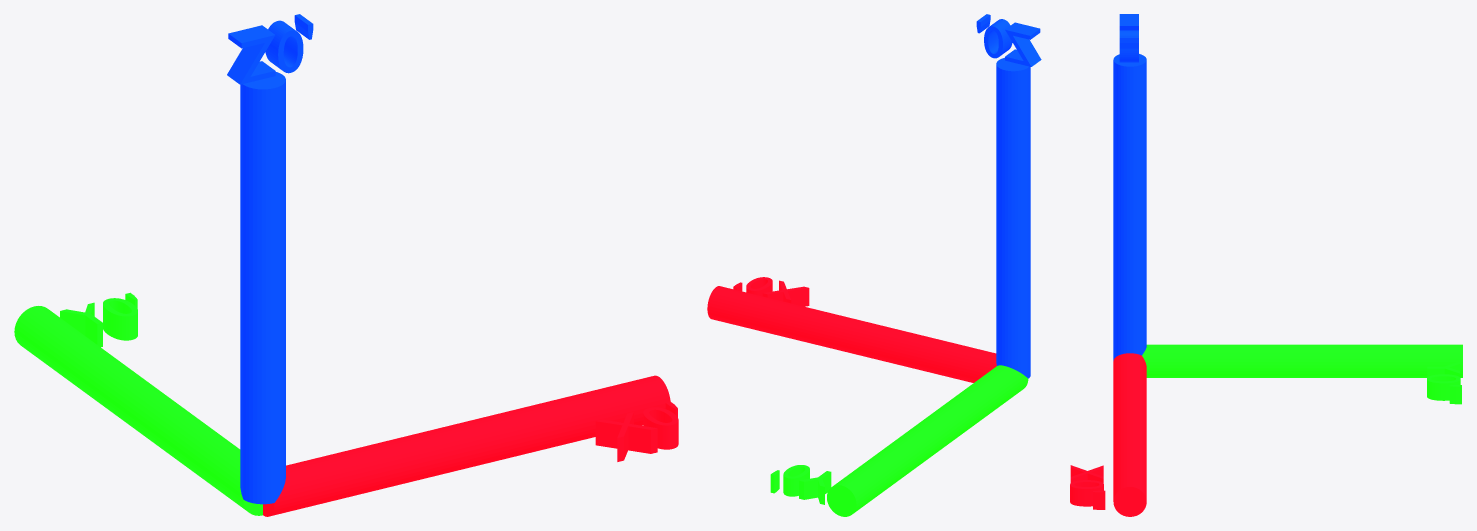
The model's file is axis_frame_0_prima.dae.
3 renders of one model, left to right at view 1: azimuth 30°, elevation 25°; view 2: azimuth 150°, elevation 25°; view 3: azimuth 270°, elevation 25°, orthographic. The views are drawn at different scales.
Visible parts, largest first — view 1: FRAME_0; view 2: FRAME_0; view 3: FRAME_0.
Boxes of the visible parts, left/top/right/bottom form: FRAME_0: left=14, top=14, right=678, bottom=516; FRAME_0: left=707, top=14, right=1041, bottom=516; FRAME_0: left=1070, top=14, right=1462, bottom=516.
Bounding box in the file's own units: 0.8072 × 0.8853 × 0.8795.
